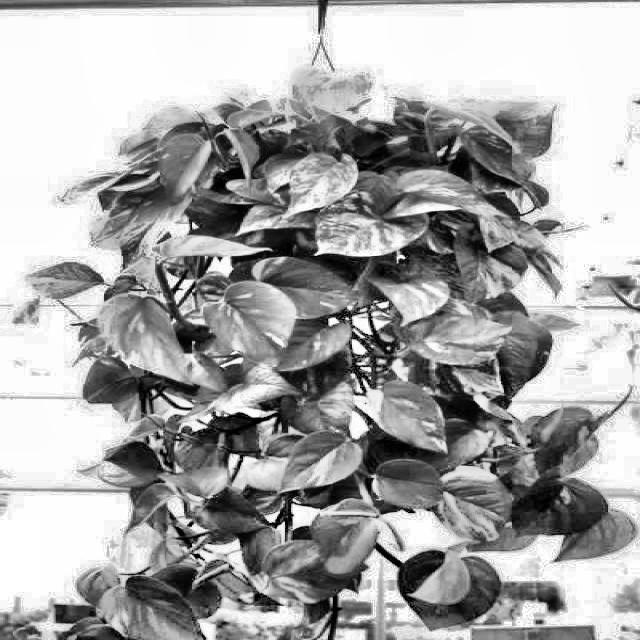plants: (82, 66, 598, 624)
